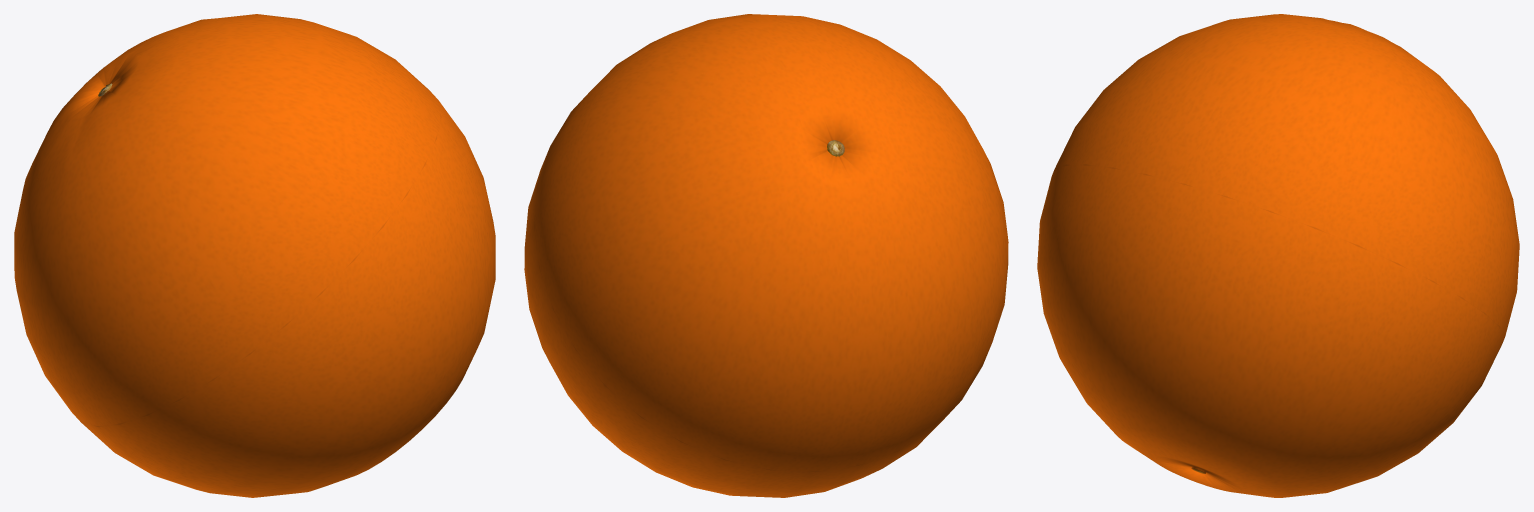
The model's file is Orange_internal.dae.
3 renders of one model, left to right at view 1: azimuth 30°, elevation 25°; view 2: azimuth 150°, elevation 25°; view 3: azimuth 270°, elevation 25°, orthographic.
Visible parts, largest first — view 1: Orange; view 2: Orange; view 3: Orange.
Part boxes in pixels (box(x1,y1,x2,y2)): Orange: box(14, 14, 495, 497); Orange: box(524, 14, 1008, 497); Orange: box(1037, 14, 1519, 497).
Bounding box in the file's own units: 2 × 2 × 1.99.
Materials: 2 (2 with a texture image).
